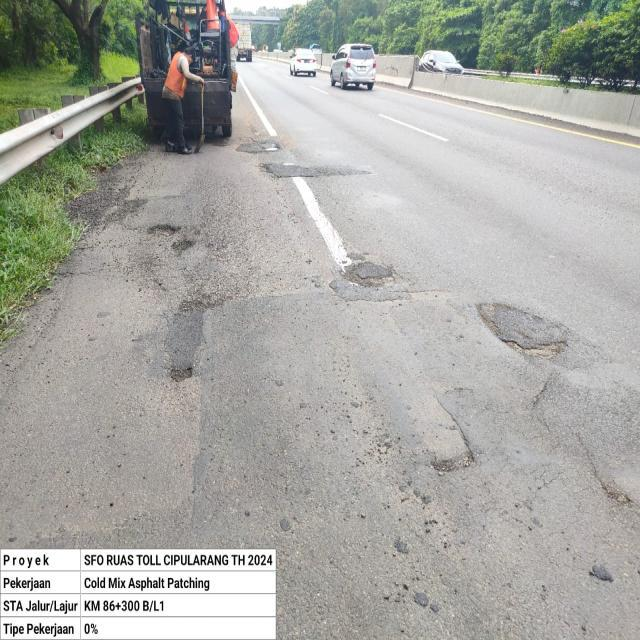Buraco: (499, 337, 570, 361), (145, 222, 183, 240), (256, 141, 282, 153)
